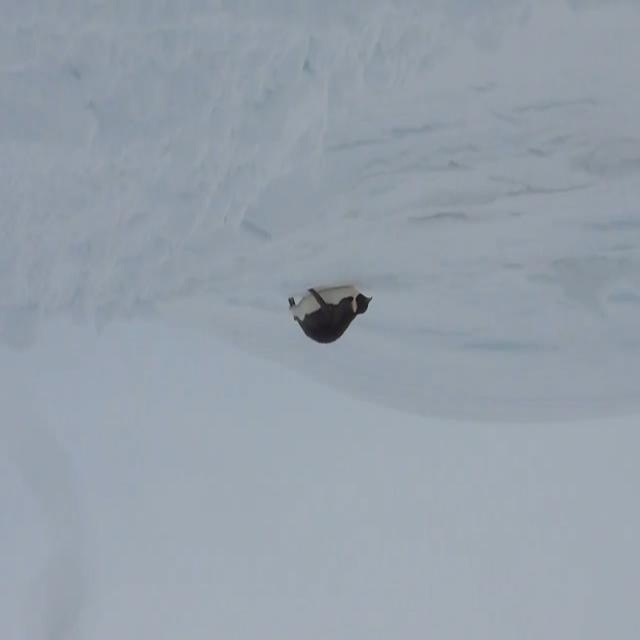penguin: (289, 286, 374, 346)
